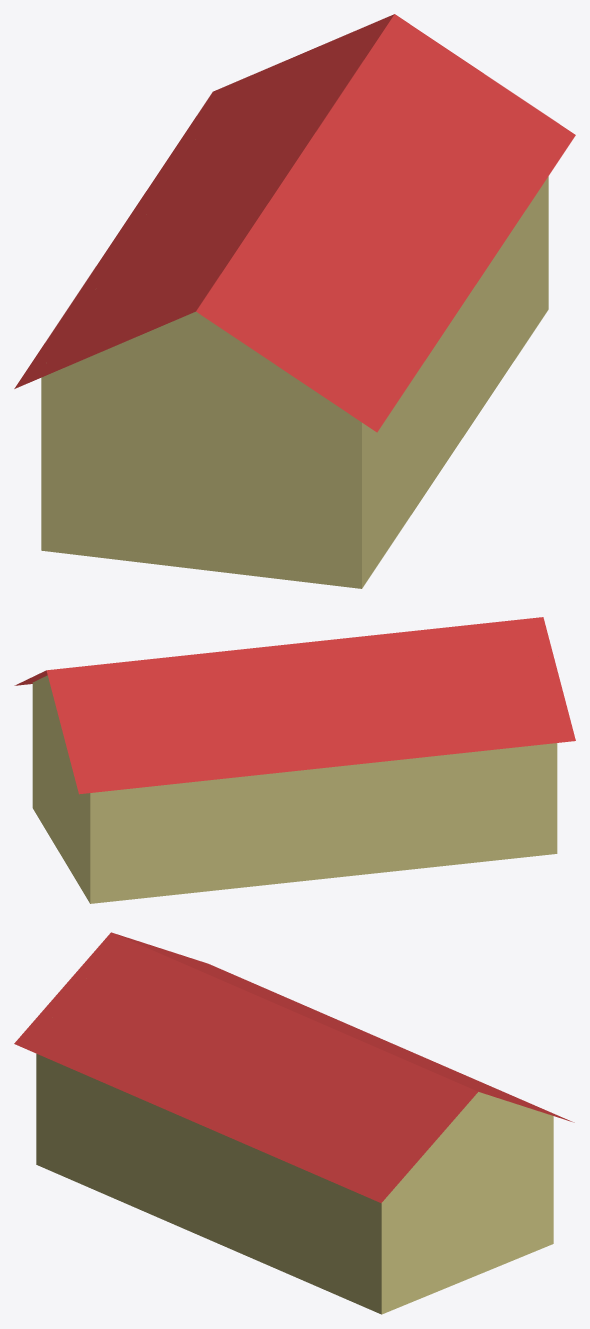
3 views of the same model, one above another, from view 1: azimuth 30°, elevation 25°; view 2: azimuth 150°, elevation 25°; view 3: azimuth 270°, elevation 25° (orthographic). The views are drawn at different scales.
Bounding box in the file's own units: 35.72 × 35.42 × 13.38.
